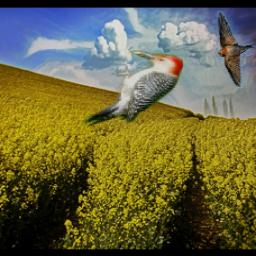Swallow: (216, 11, 254, 87)
Woodpecker: (77, 48, 183, 128)
